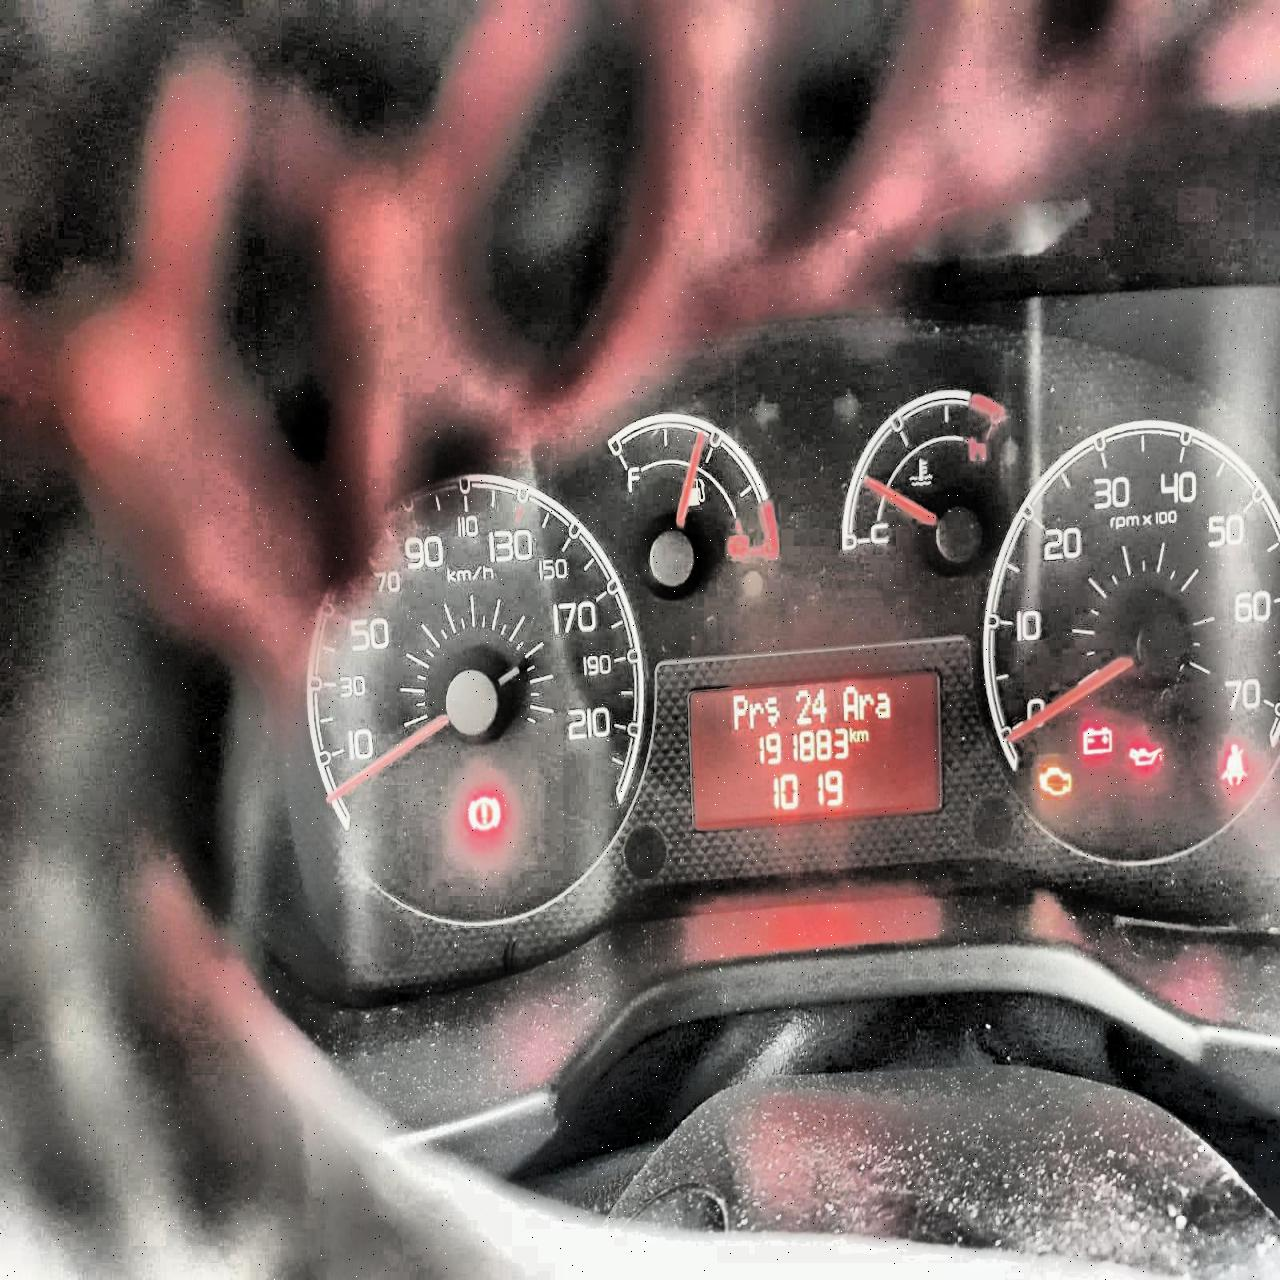0: (780, 771, 798, 811)
1: (816, 769, 824, 810), (791, 730, 798, 764), (772, 773, 778, 811), (758, 732, 764, 765)
2: (794, 687, 811, 724)
3: (834, 726, 848, 759)
4: (812, 684, 826, 724)
8: (816, 726, 831, 760), (800, 728, 814, 762)
9: (825, 769, 843, 808), (766, 730, 780, 764)
X: (732, 691, 747, 731), (842, 684, 858, 721), (874, 690, 891, 719), (858, 691, 874, 720), (764, 696, 779, 726), (748, 700, 763, 730), (856, 728, 869, 742), (849, 726, 856, 744)
odometer: (685, 665, 948, 836)
